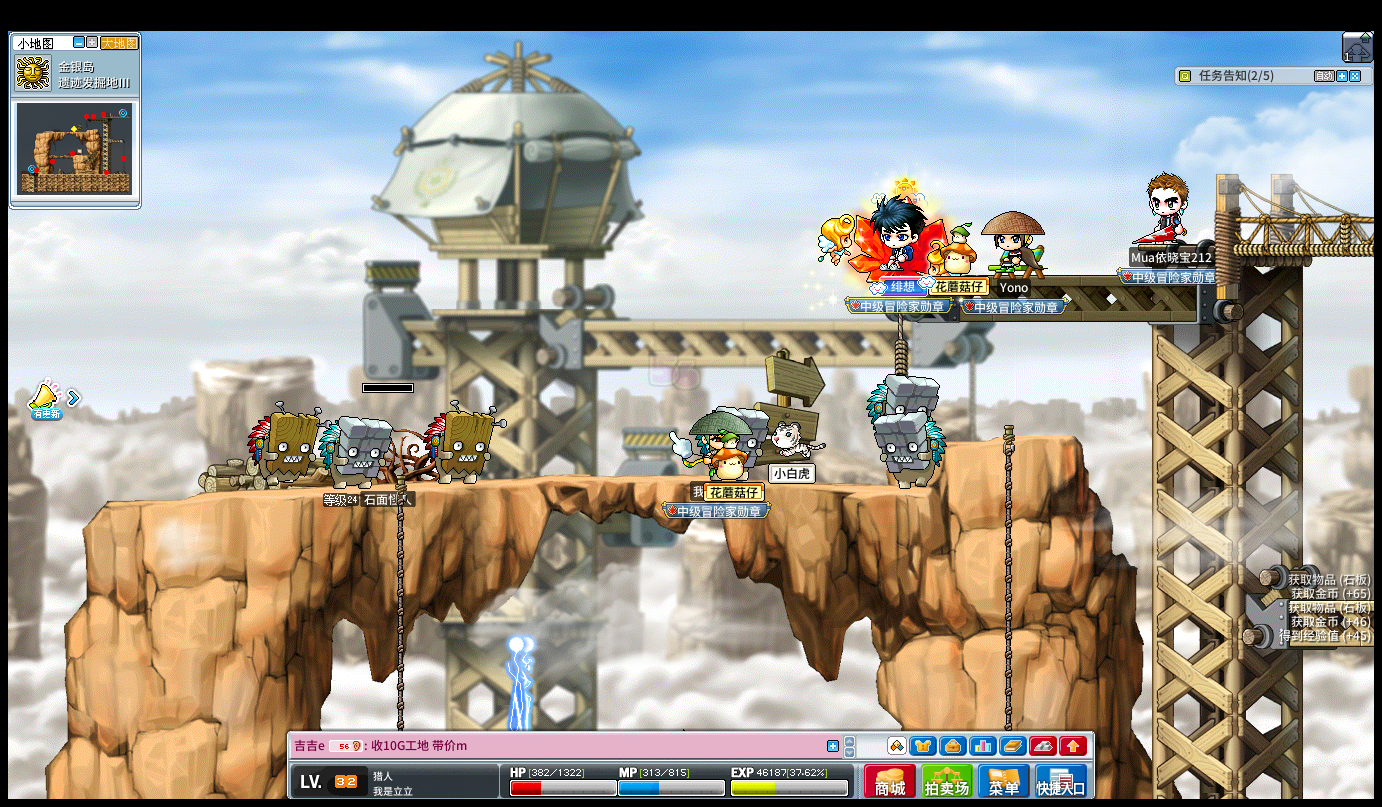floor: (79, 472, 953, 503), (106, 470, 961, 493), (942, 432, 1076, 446)
monster: (868, 371, 941, 472), (246, 405, 322, 491), (423, 402, 500, 483), (872, 411, 945, 490), (319, 415, 391, 488), (866, 374, 939, 416)
rope: (392, 476, 407, 781), (1000, 425, 1015, 728)
